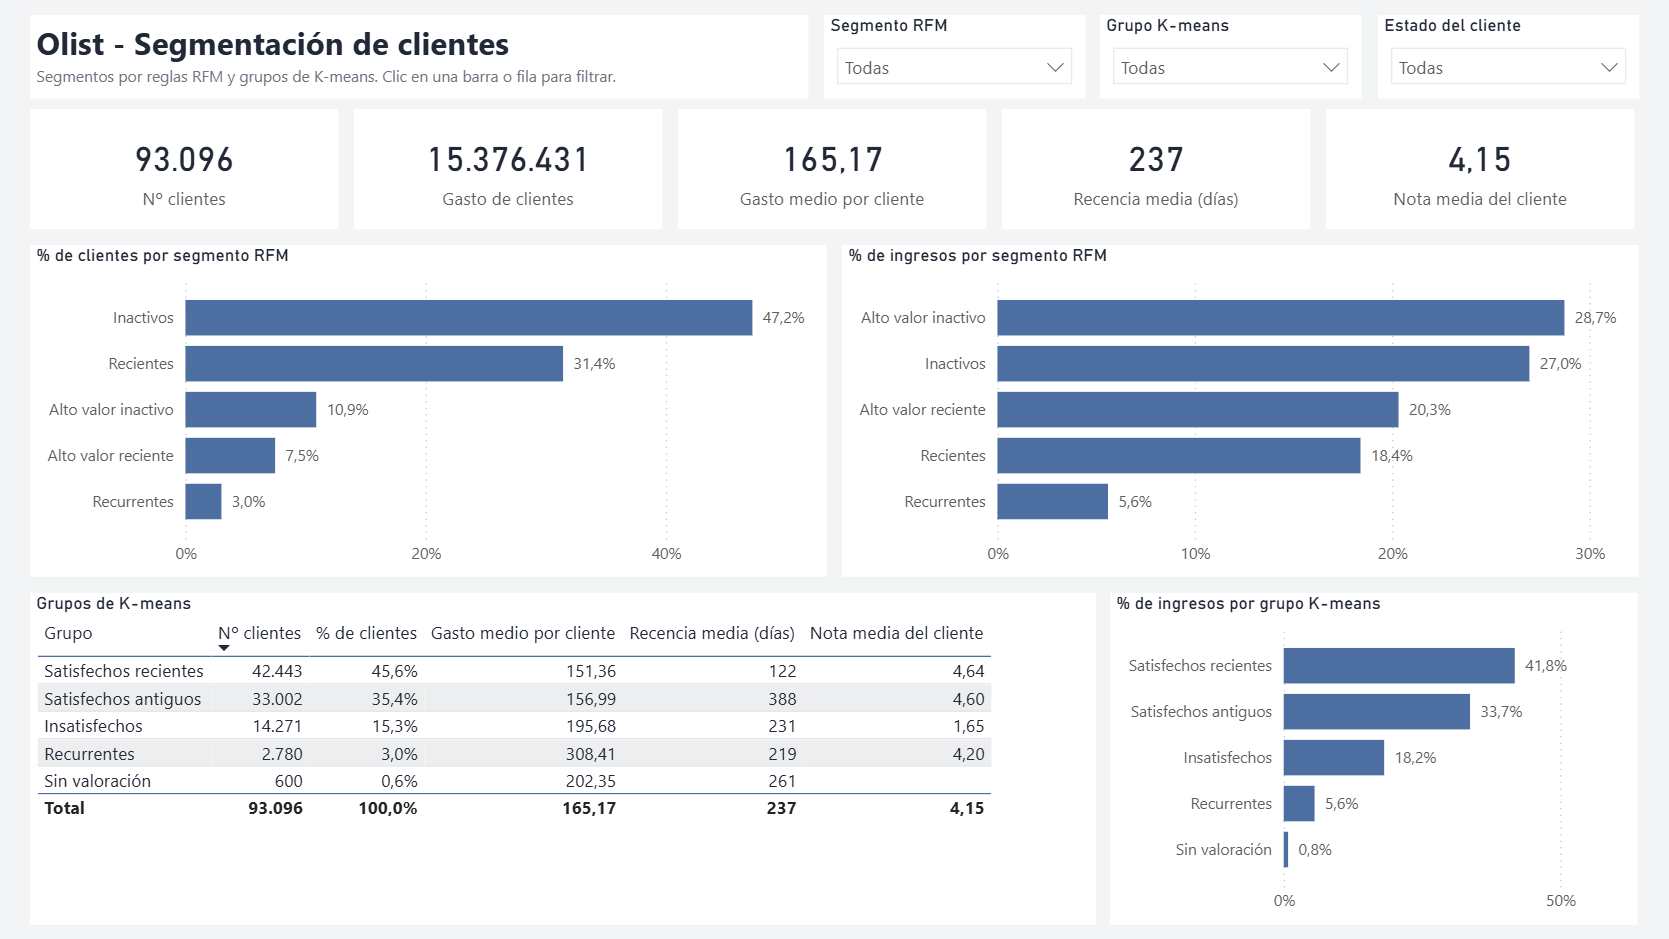

Layout of this report page (visuals, bound fields, positions):
{"tool":"powerbi","page":{"name":"Segmentación de clientes","canvas":[1280,720],"ordinal":2},"visuals":[{"type":"textbox","box":[24,12,596,64],"z":0},{"type":"slicer","title":"Segmento RFM","fields":{"Values":["Clientes.segmento"]},"box":[632,12,200,64],"z":1},{"type":"slicer","title":"Grupo K-means","fields":{"Values":["Clientes.cluster"]},"box":[844,12,200,64],"z":2},{"type":"slicer","title":"Estado del cliente","fields":{"Values":["Clientes.estado"]},"box":[1056,12,200,64],"z":3},{"type":"card","fields":{"Values":["Clientes.Nº clientes"]},"box":[24,84,236,92],"z":4},{"type":"card","fields":{"Values":["Clientes.Gasto de clientes"]},"box":[272,84,236,92],"z":5},{"type":"card","fields":{"Values":["Clientes.Gasto medio por cliente"]},"box":[520,84,236,92],"z":6},{"type":"card","fields":{"Values":["Clientes.Recencia media (días)"]},"box":[768,84,236,92],"z":7},{"type":"card","fields":{"Values":["Clientes.Nota media del cliente"]},"box":[1016,84,236,92],"z":8},{"type":"barChart","title":"% de clientes por segmento RFM","fields":{"Category":["Clientes.segmento"],"Y":["Clientes.% de clientes"]},"box":[24,188,610,254],"z":9},{"type":"barChart","title":"% de ingresos por segmento RFM","fields":{"Category":["Clientes.segmento"],"Y":["Clientes.% de ingresos"]},"box":[646,188,610,254],"z":10},{"type":"barChart","title":"% de ingresos por grupo K-means","fields":{"Category":["Clientes.cluster"],"Y":["Clientes.% de ingresos"]},"box":[852,454,404,254],"z":11},{"type":"tableEx","title":"Grupos de K-means","fields":{"Values":["Clientes.cluster","Clientes.Nº clientes","Clientes.% de clientes","Clientes.Gasto medio por cliente","Clientes.Recencia media (días)","Clientes.Nota media del cliente"]},"box":[24,454,816,254],"z":12}]}

Visuals, with their boxes in screenshot pixels (x1, y1, x2, y2), scaled from the page's 1280x720 canvas onto the 1669x939 screenshot:
textbox: [x1=31, y1=16, x2=808, y2=99]
"Segmento RFM" slicer: [x1=824, y1=16, x2=1085, y2=99]
"Grupo K-means" slicer: [x1=1100, y1=16, x2=1361, y2=99]
"Estado del cliente" slicer: [x1=1377, y1=16, x2=1638, y2=99]
card - Clientes.Nº clientes: [x1=31, y1=110, x2=339, y2=230]
card - Clientes.Gasto de clientes: [x1=355, y1=110, x2=662, y2=230]
card - Clientes.Gasto medio por cliente: [x1=678, y1=110, x2=986, y2=230]
card - Clientes.Recencia media (días): [x1=1001, y1=110, x2=1309, y2=230]
card - Clientes.Nota media del cliente: [x1=1325, y1=110, x2=1632, y2=230]
"% de clientes por segmento RFM" barChart: [x1=31, y1=245, x2=827, y2=576]
"% de ingresos por segmento RFM" barChart: [x1=842, y1=245, x2=1638, y2=576]
"% de ingresos por grupo K-means" barChart: [x1=1111, y1=592, x2=1638, y2=923]
"Grupos de K-means" tableEx: [x1=31, y1=592, x2=1095, y2=923]
